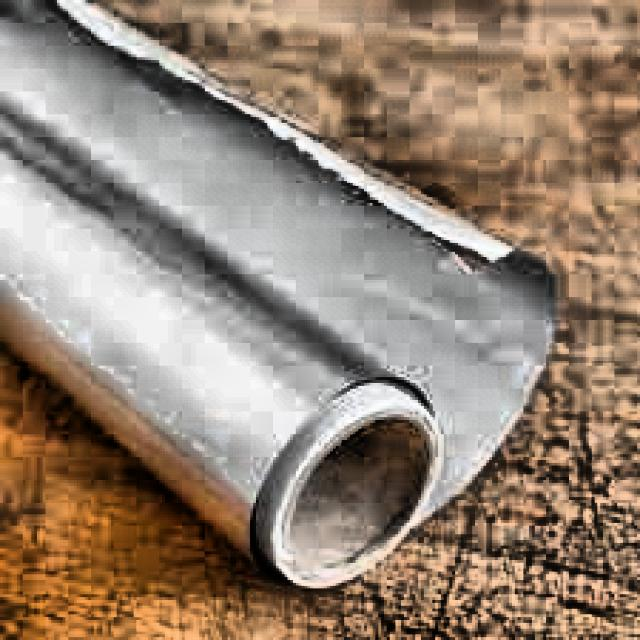Foil: (0, 0, 575, 563)
